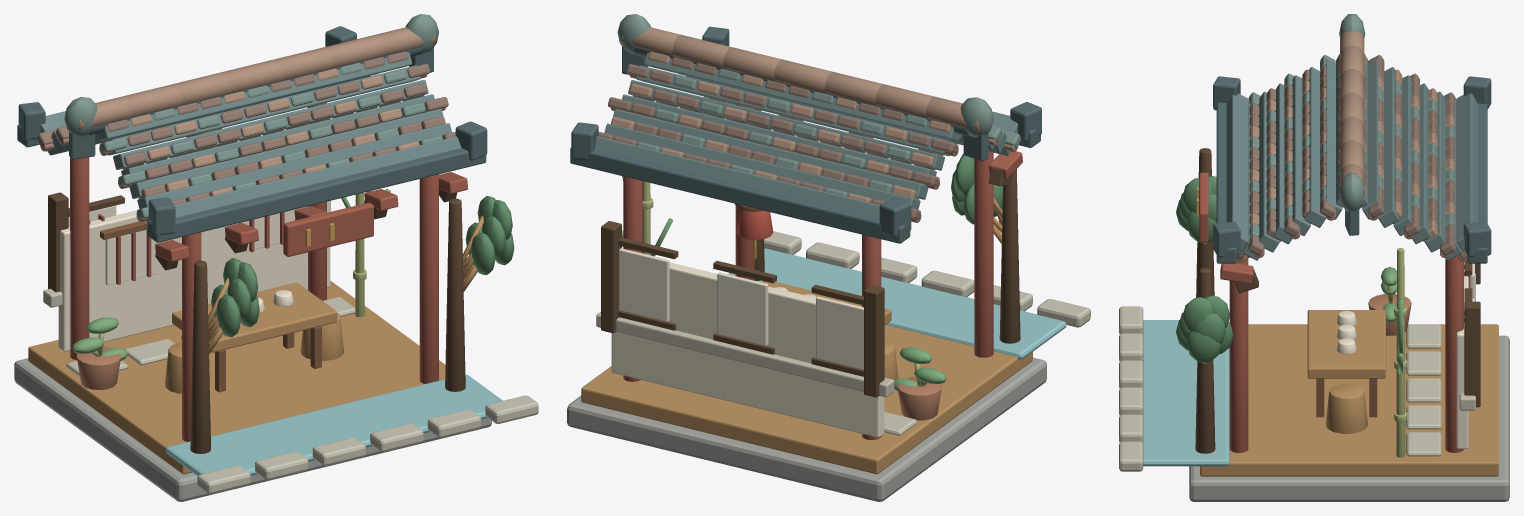
The model's file is building_tea_pavilion_open.glb.
The picture shows the model from 3 angles, left to right: view 1: azimuth 30°, elevation 25°; view 2: azimuth 150°, elevation 25°; view 3: azimuth 270°, elevation 25°; orthographic projection. The views are drawn at different scales.
Parts seen in each view (by area): view 1: V4_wood_light.006, V4_roof.006, V4_wood_red.006, V4_paper.001, V4_roof_terracotta_light.006, V4_roof_edge.006, V4_water_light.002, V4_roof_terracotta.006, V4_wood_dark.006, V4_stone_light.006, V4_stone.006, V4_roof_moss.006 (+5 smaller); view 2: V4_roof.006, V4_wood_light.006, V4_paper.001, V4_stone.006, V4_roof_terracotta_light.006, V4_roof_edge.006, V4_wood_dark.006, V4_plaster_light.006, V4_stone_light.006, V4_roof_terracotta.006, V4_water_light.002, V4_wood_red.006 (+6 smaller); view 3: V4_wood_light.006, V4_roof.006, V4_stone.006, V4_water_light.002, V4_stone_light.006, V4_roof_terracotta.006, V4_roof_terracotta_light.006, V4_wood_red.006, V4_roof_edge.006, V4_wood_dark.006, V4_roof_moss.006, V4_foliage_dark.002 (+5 smaller).
Part boxes in pixels (x1,y1,x2,y2): V4_wood_light.006: [28, 215, 483, 474]; V4_roof.006: [40, 52, 461, 222]; V4_wood_red.006: [70, 102, 467, 441]; V4_paper.001: [58, 201, 330, 351]; V4_roof_terracotta_light.006: [40, 27, 445, 221]; V4_roof_edge.006: [17, 26, 487, 242]; V4_water_light.002: [165, 374, 502, 476]; V4_roof_terracotta.006: [37, 51, 455, 204]; V4_wood_dark.006: [48, 189, 465, 453]; V4_stone_light.006: [43, 288, 538, 494]; V4_stone.006: [14, 358, 491, 501]; V4_roof_moss.006: [64, 14, 442, 219]; V4_roof.006: [595, 52, 1017, 217]; V4_wood_light.006: [581, 118, 1032, 474]; V4_paper.001: [611, 262, 884, 437]; V4_stone.006: [567, 357, 1046, 501]; V4_roof_terracotta_light.006: [611, 27, 1018, 222]; V4_roof_edge.006: [570, 26, 1041, 243]; V4_wood_dark.006: [601, 109, 1020, 397]; V4_plaster_light.006: [619, 248, 863, 369]; V4_stone_light.006: [596, 231, 1090, 435]; V4_roof_terracotta.006: [598, 57, 958, 219]; V4_water_light.002: [728, 248, 1066, 359]; V4_wood_red.006: [623, 98, 1022, 439]; V4_wood_light.006: [1200, 243, 1498, 476]; V4_roof.006: [1226, 57, 1477, 260]; V4_stone.006: [1189, 335, 1509, 501]; V4_water_light.002: [1142, 320, 1229, 466]; V4_stone_light.006: [1119, 273, 1475, 471]; V4_roof_terracotta.006: [1237, 54, 1455, 259]; V4_roof_terracotta_light.006: [1237, 31, 1467, 261]; V4_wood_red.006: [1199, 172, 1469, 452]; V4_roof_edge.006: [1213, 76, 1491, 263]; V4_wood_dark.006: [1195, 148, 1480, 453]; V4_roof_moss.006: [1248, 14, 1454, 236]; V4_foliage_dark.002: [1176, 176, 1233, 363].
Bounding box in the file's own units: 3.06 × 2.75 × 2.9.
